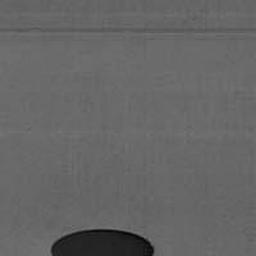Punching: (50, 228, 154, 256)
